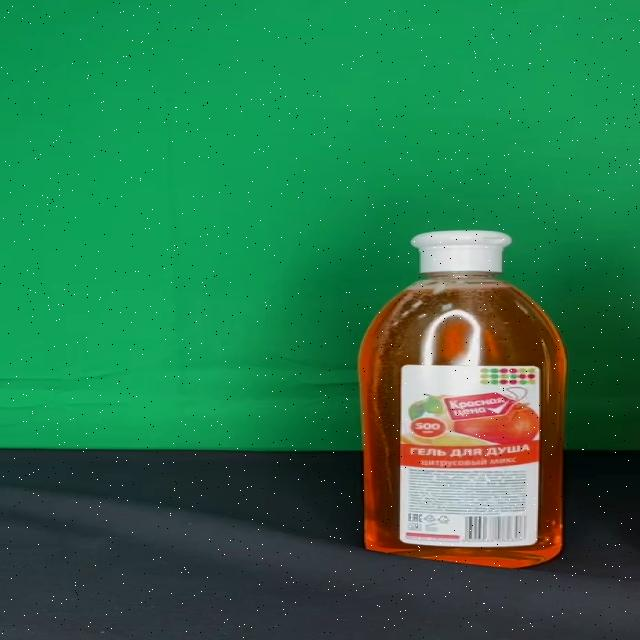Bottle: (358, 231, 568, 567)
Cap: (410, 231, 513, 273)
